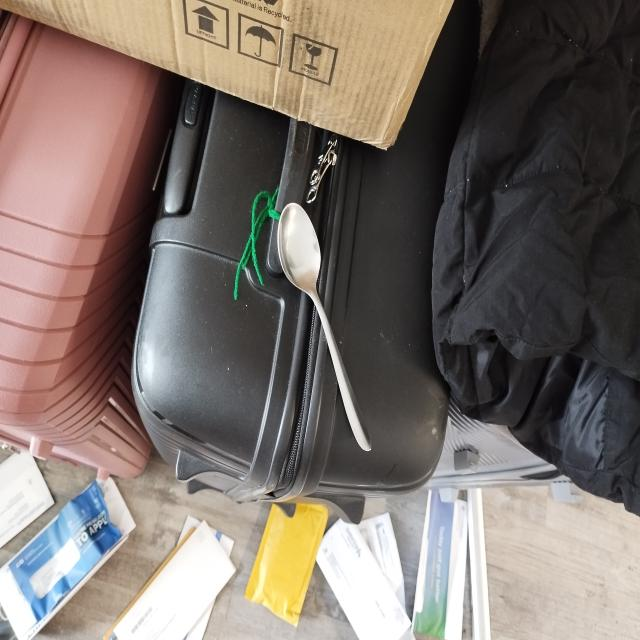Spoon: (270, 199, 408, 462)
